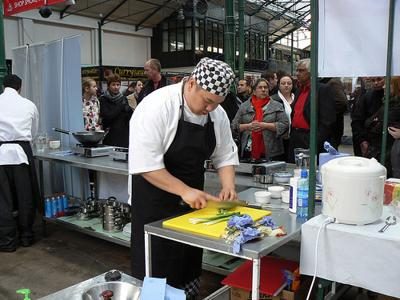person: (126, 58, 242, 295)
